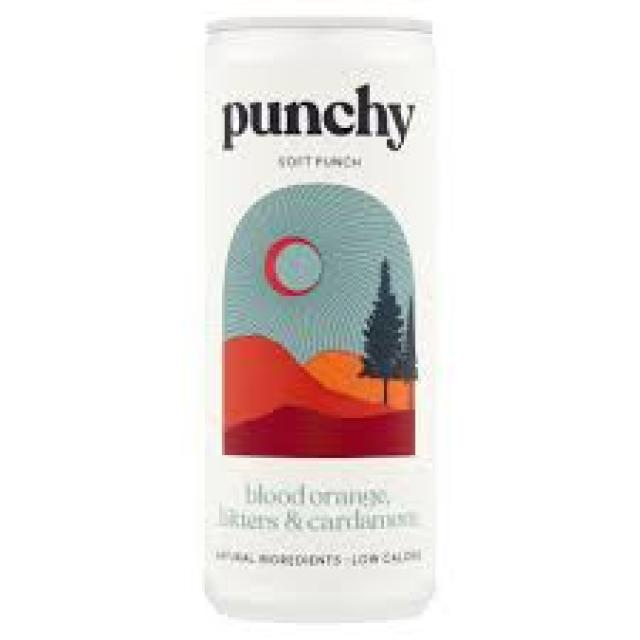Cans: (193, 11, 452, 632)
